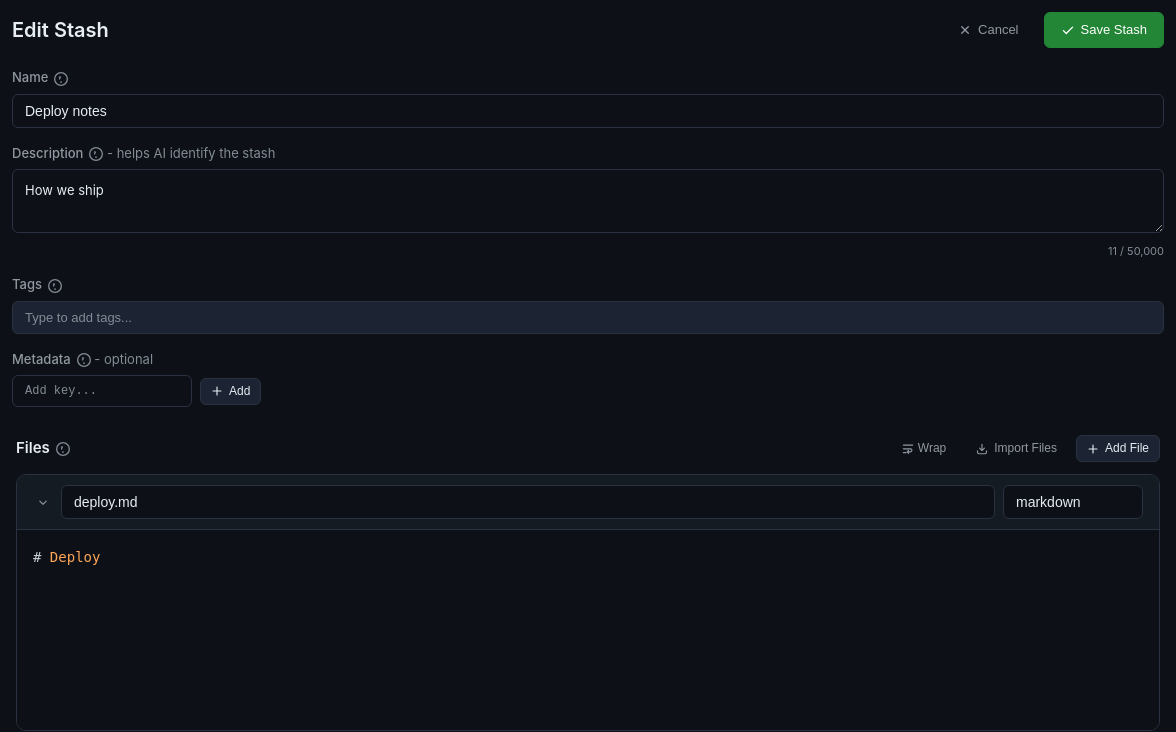
Test: StashEditor unsaved-changes indicator › appears on the first edit and reports it to assistive tech
The image size is (1176, 732).
Replace the text in the field labelled "Name" with "Deploy notes v2" at (588, 111), box [12, 94, 1164, 128]
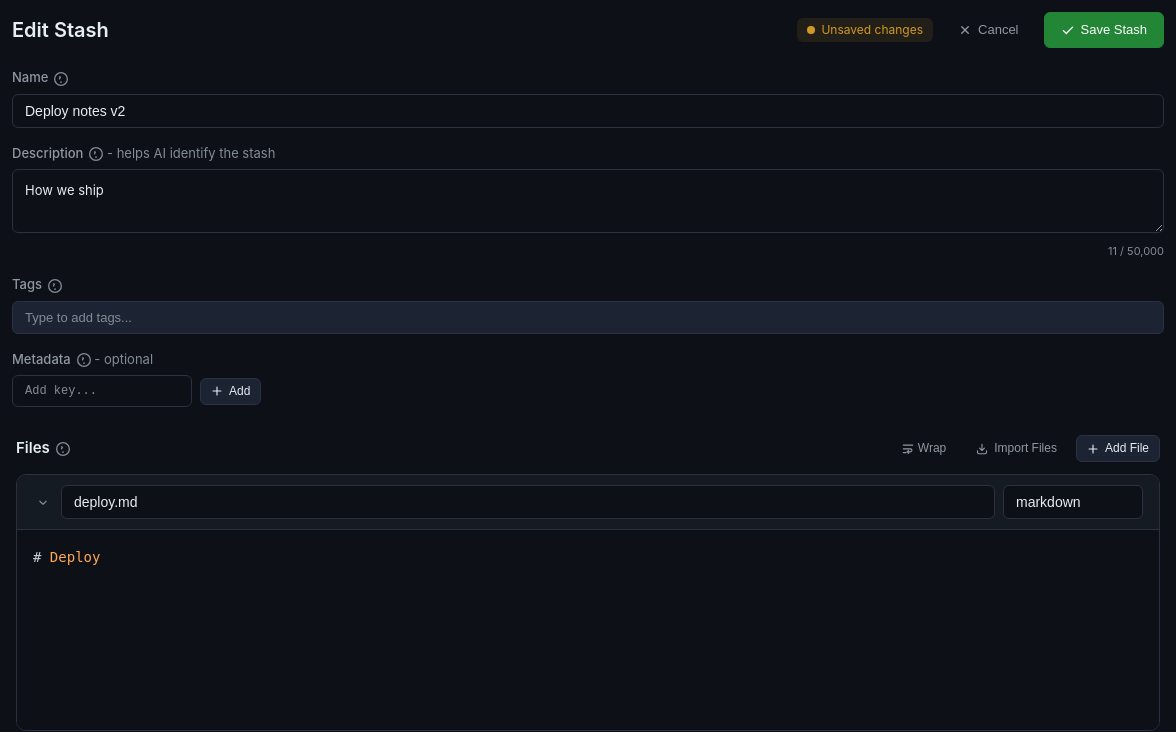
Now the message "Unsaved changes" is shown, box [797, 18, 933, 42]
Now the message with class "editor-dirty-badge" reads "Unsaved changes", box [821, 22, 923, 37]
